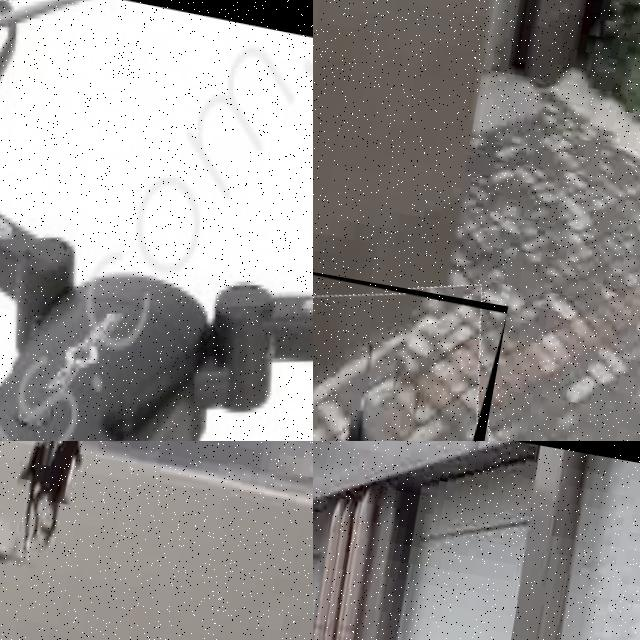0: (313, 247, 507, 441)
drone: (0, 0, 313, 441)
